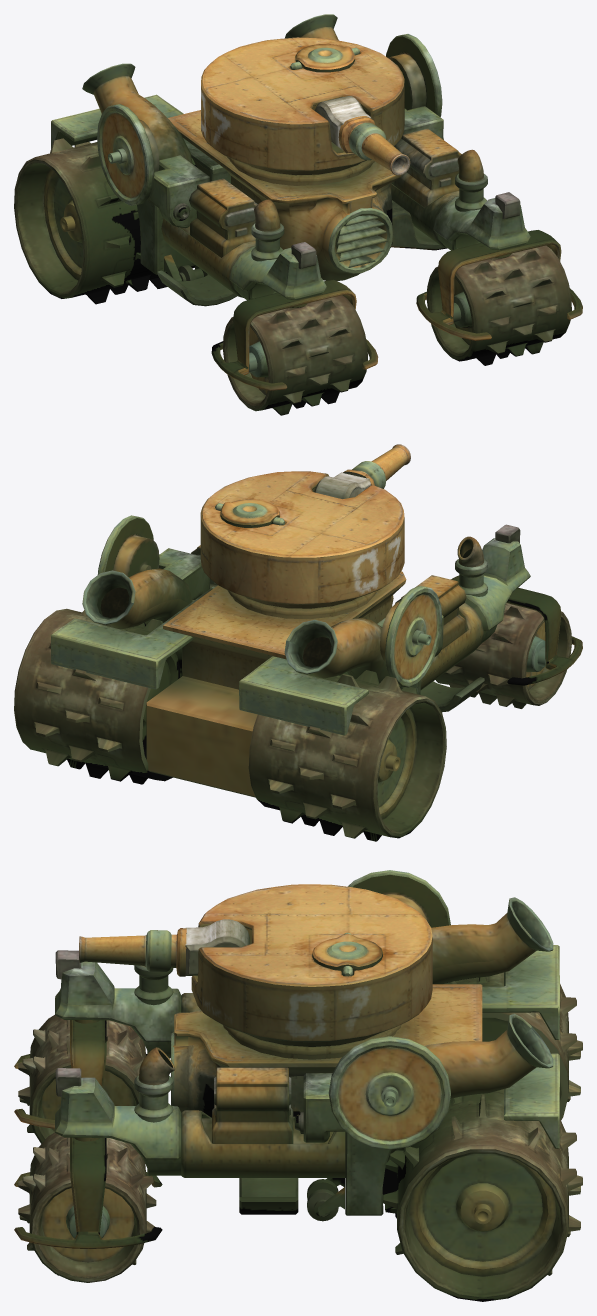
The model's file is Tank.gltf.
3 renders of one model, top to bottom at view 1: azimuth 30°, elevation 25°; view 2: azimuth 150°, elevation 25°; view 3: azimuth 270°, elevation 25°, orthographic. The views are drawn at different scales.
Parts seen in each view (by area): view 1: r_engine_geo, turret_geo, r_back_wheel_geo, l_engine_geo, tank_geo, r_front_wheel_geo, l_front_wheel_geo, l_steer_geo, r_steer_geo, canon_geo, hatch_geo; view 2: r_engine_geo, r_back_wheel_geo, turret_geo, tank_geo, l_engine_geo, l_back_wheel_geo, r_front_wheel_geo, r_steer_geo, canon_geo, hatch_geo; view 3: l_engine_geo, turret_geo, l_back_wheel_geo, r_engine_geo, tank_geo, l_front_wheel_geo, r_front_wheel_geo, canon_geo, l_steer_geo, r_back_wheel_geo, r_steer_geo, hatch_geo.
Boxes of the visible parts, <box> form: r_engine_geo: <box>51,63,326,300</box>; turret_geo: <box>201,37,404,185</box>; r_back_wheel_geo: <box>14,138,196,304</box>; l_engine_geo: <box>285,14,530,250</box>; tank_geo: <box>157,110,447,306</box>; r_front_wheel_geo: <box>223,295,367,415</box>; l_front_wheel_geo: <box>426,245,571,365</box>; l_steer_geo: <box>416,230,582,340</box>; r_steer_geo: <box>211,279,378,390</box>; canon_geo: <box>314,96,410,175</box>; hatch_geo: <box>295,44,354,71</box>; r_engine_geo: <box>239,524,530,735</box>; r_back_wheel_geo: <box>248,670,446,841</box>; turret_geo: <box>200,471,404,619</box>; tank_geo: <box>146,571,484,797</box>; l_engine_geo: <box>51,515,217,689</box>; l_back_wheel_geo: <box>14,608,181,784</box>; r_front_wheel_geo: <box>435,603,571,708</box>; r_steer_geo: <box>451,575,582,685</box>; canon_geo: <box>314,444,410,498</box>; hatch_geo: <box>220,499,279,527</box>; l_engine_geo: <box>55,1014,559,1221</box>; turret_geo: <box>191,884,432,1059</box>; l_back_wheel_geo: <box>383,1089,582,1301</box>; r_engine_geo: <box>55,870,559,1058</box>; tank_geo: <box>171,984,482,1214</box>; l_front_wheel_geo: <box>18,1132,156,1282</box>; r_front_wheel_geo: <box>18,1015,145,1143</box>; canon_geo: <box>79,919,249,976</box>; l_steer_geo: <box>14,1137,162,1248</box>; r_back_wheel_geo: <box>443,972,582,1120</box>; r_steer_geo: <box>14,1020,147,1128</box>; hatch_geo: <box>312,933,382,969</box>.
Size of the model in its own units: 6.06 by 3.85 by 6.98.
Materials: 2 (2 with a texture image).
